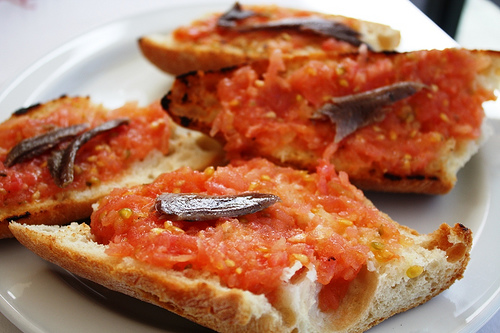fish: (312, 80, 428, 142), (48, 117, 134, 184), (238, 7, 367, 48), (157, 190, 280, 224), (4, 123, 88, 171)
